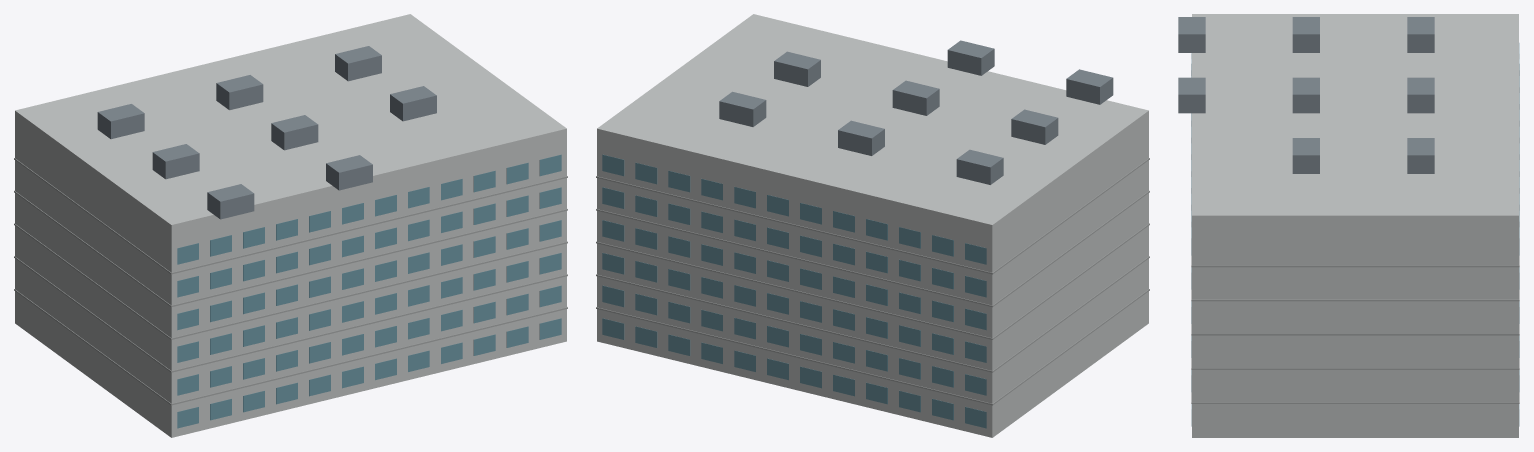
The picture shows the model from 3 angles, left to right: view 1: azimuth 30°, elevation 25°; view 2: azimuth 150°, elevation 25°; view 3: azimuth 270°, elevation 25°; orthographic projection. The views are drawn at different scales.
Visible parts, largest first — view 1: worldgen; view 2: worldgen; view 3: worldgen.
Boxes of the visible parts, left/top/right/bottom form: worldgen: left=14, top=14, right=567, bottom=437; worldgen: left=596, top=14, right=1149, bottom=437; worldgen: left=1178, top=14, right=1519, bottom=437.
Bounding box in the file's own units: 70.2 × 39 × 50.1.
